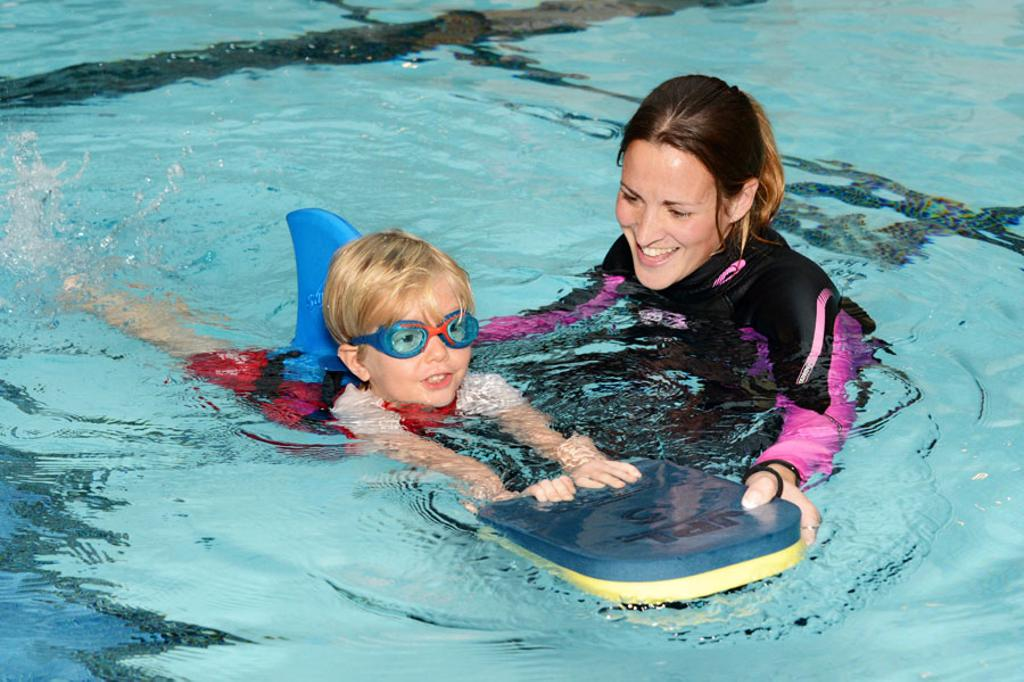face: (618, 152, 710, 290), (382, 290, 478, 404)
